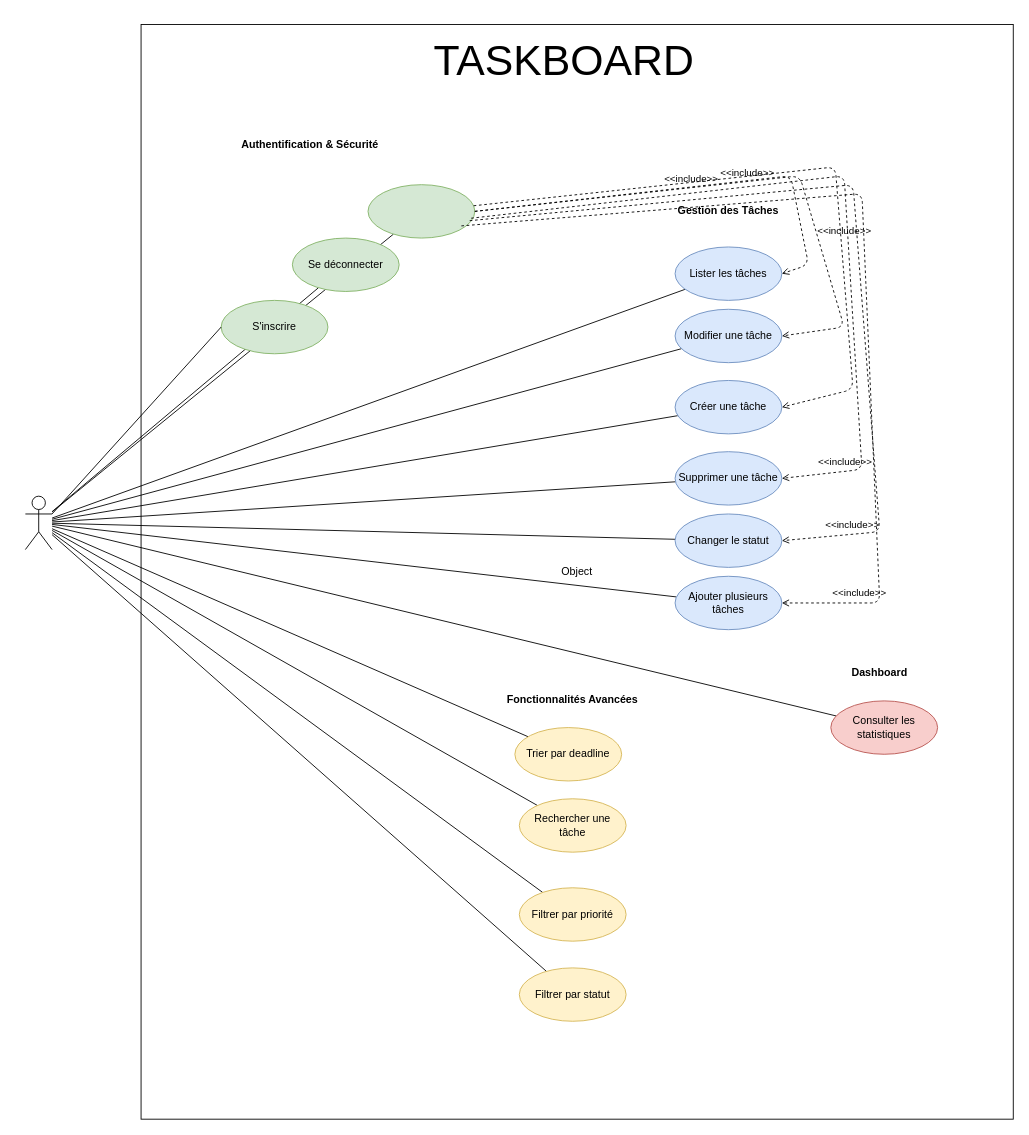
Some shapes in this 1029 by 1135 pixel diagram are drawn without their labels. The centre of each missing label's shape, as x and y in pixels:
"Se connecter" goes at point 421,211.
"Utilisateur" goes at point 38,522.
